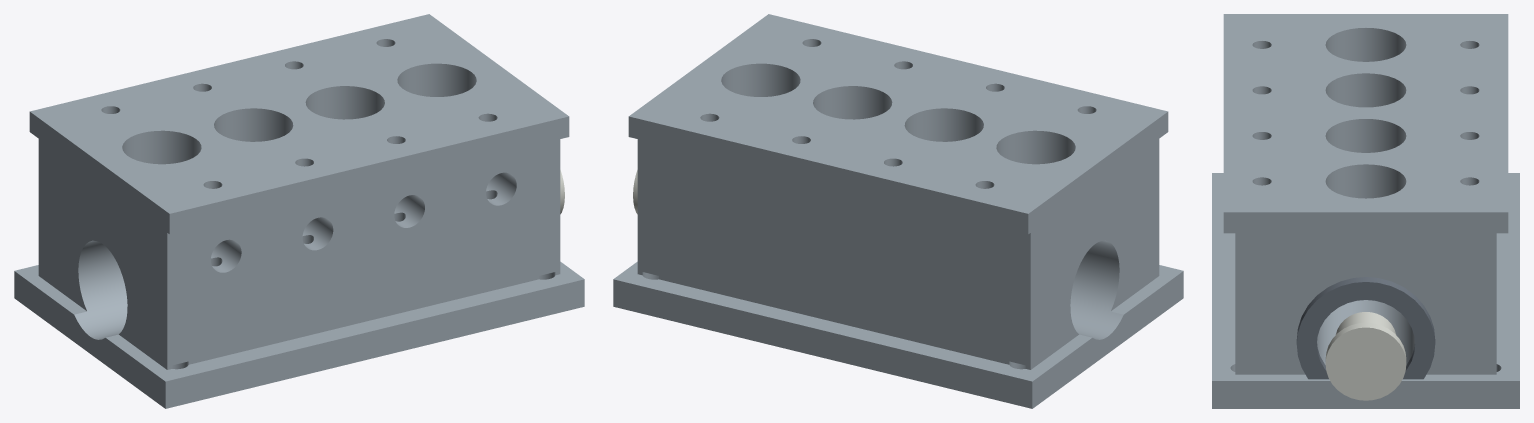
The model's file is inline_four_engine_block.glb.
The picture shows the model from 3 angles, left to right: view 1: azimuth 30°, elevation 25°; view 2: azimuth 150°, elevation 25°; view 3: azimuth 270°, elevation 25°; orthographic projection.
Parts seen in each view (by area): view 1: block; view 2: block; view 3: block, end_cover, nose_flange, crank_nose.
Boxes of the visible parts, box(x1,y1,x2,y2) form: block: box(14, 14, 584, 408); block: box(613, 14, 1183, 408); block: box(1212, 14, 1519, 408); end_cover: box(1296, 277, 1435, 379); nose_flange: box(1325, 322, 1406, 400); crank_nose: box(1335, 312, 1396, 334).
Size of the model in its own units: 139 by 55 by 80.
